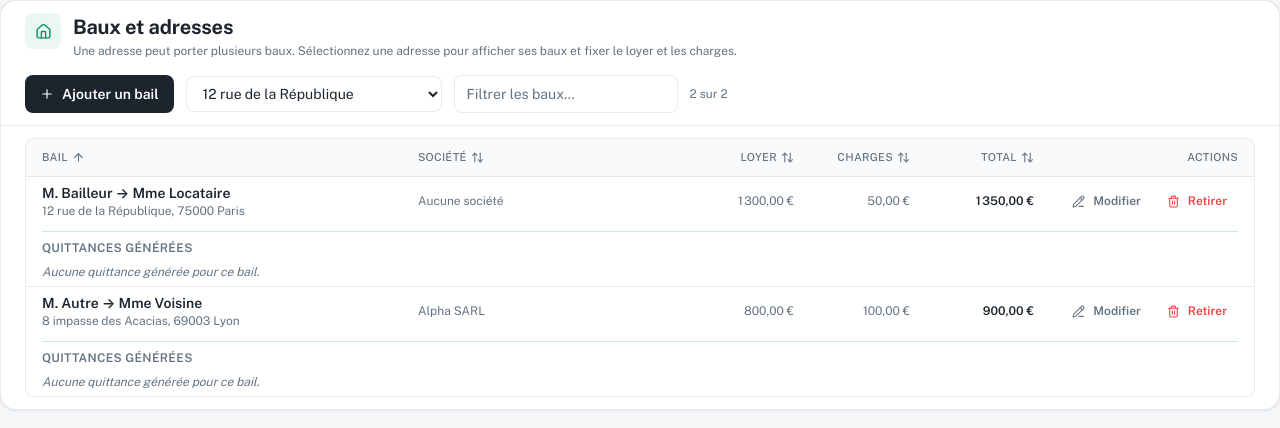
Scenario: LeaseSection rent receipt › shows a no-match message instead of the headers and rows
Type "zzz" into the search field named "Filtrer la liste" at (566, 94), box [454,75,678,113]
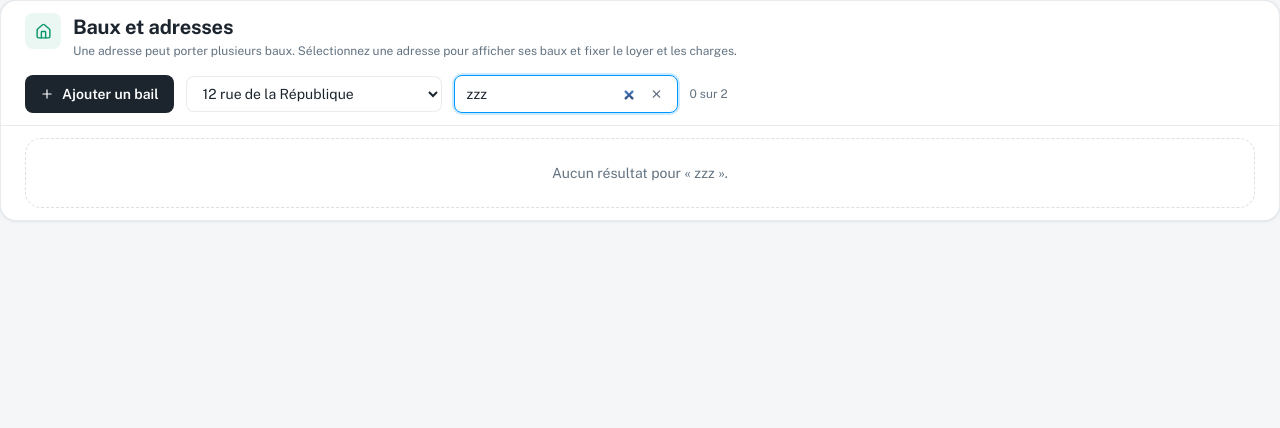
Now the text with test id "no-results-leases" reads "Aucun résultat pour « zzz ».", box [552,165,728,181]
Now the row with test id "leases-headers" is gone
